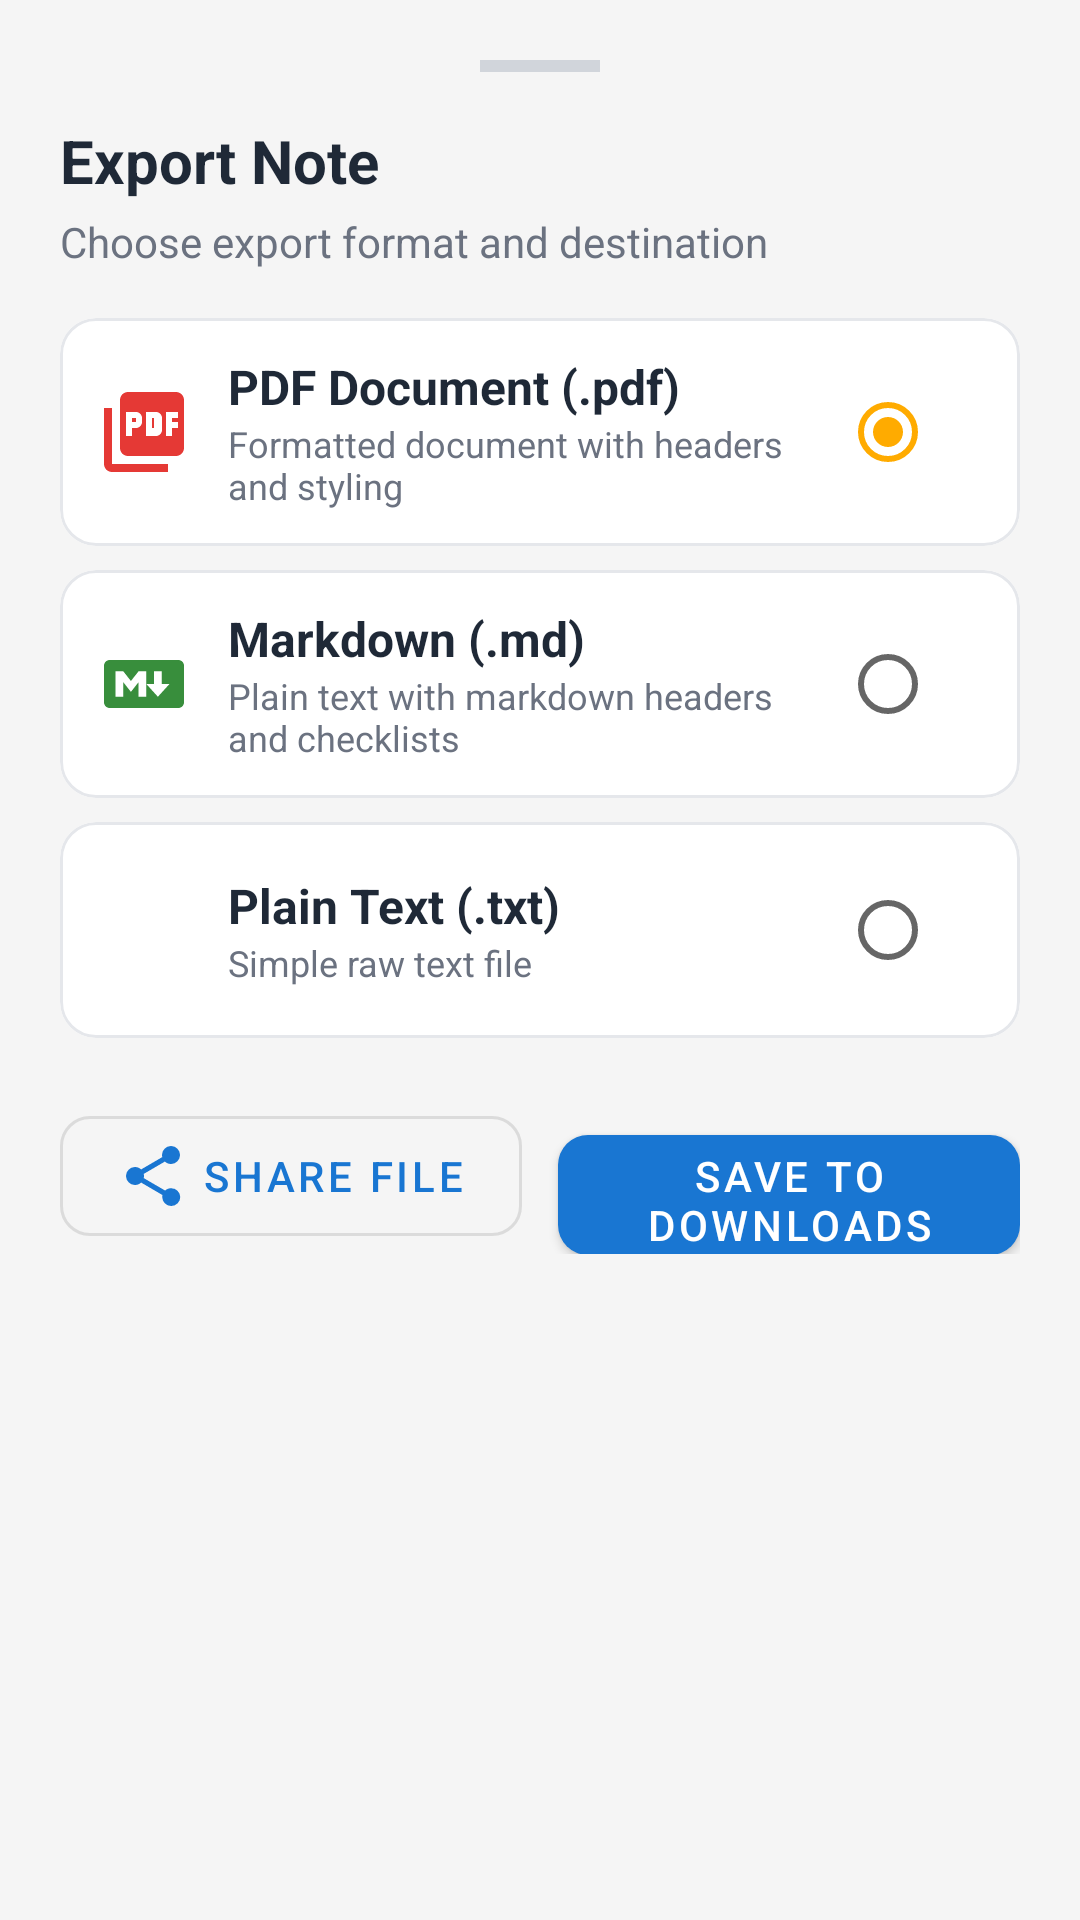

Icons on this 1080px x 1920px Android screen, each with its box as (x1,y1,x2,y2):
picture as pdf: (104,392,184,472)
